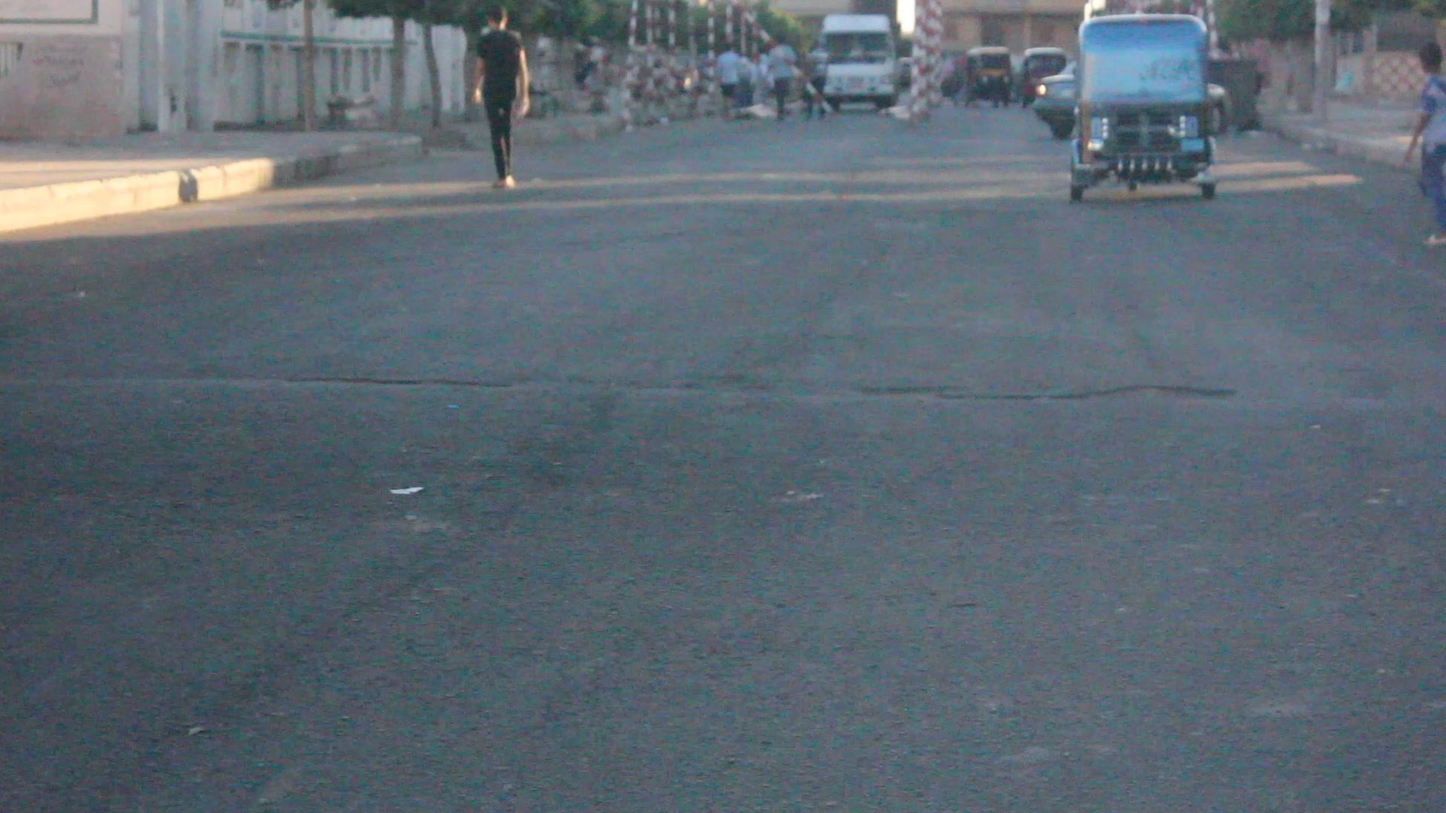Bump: (8, 375, 1446, 542)
